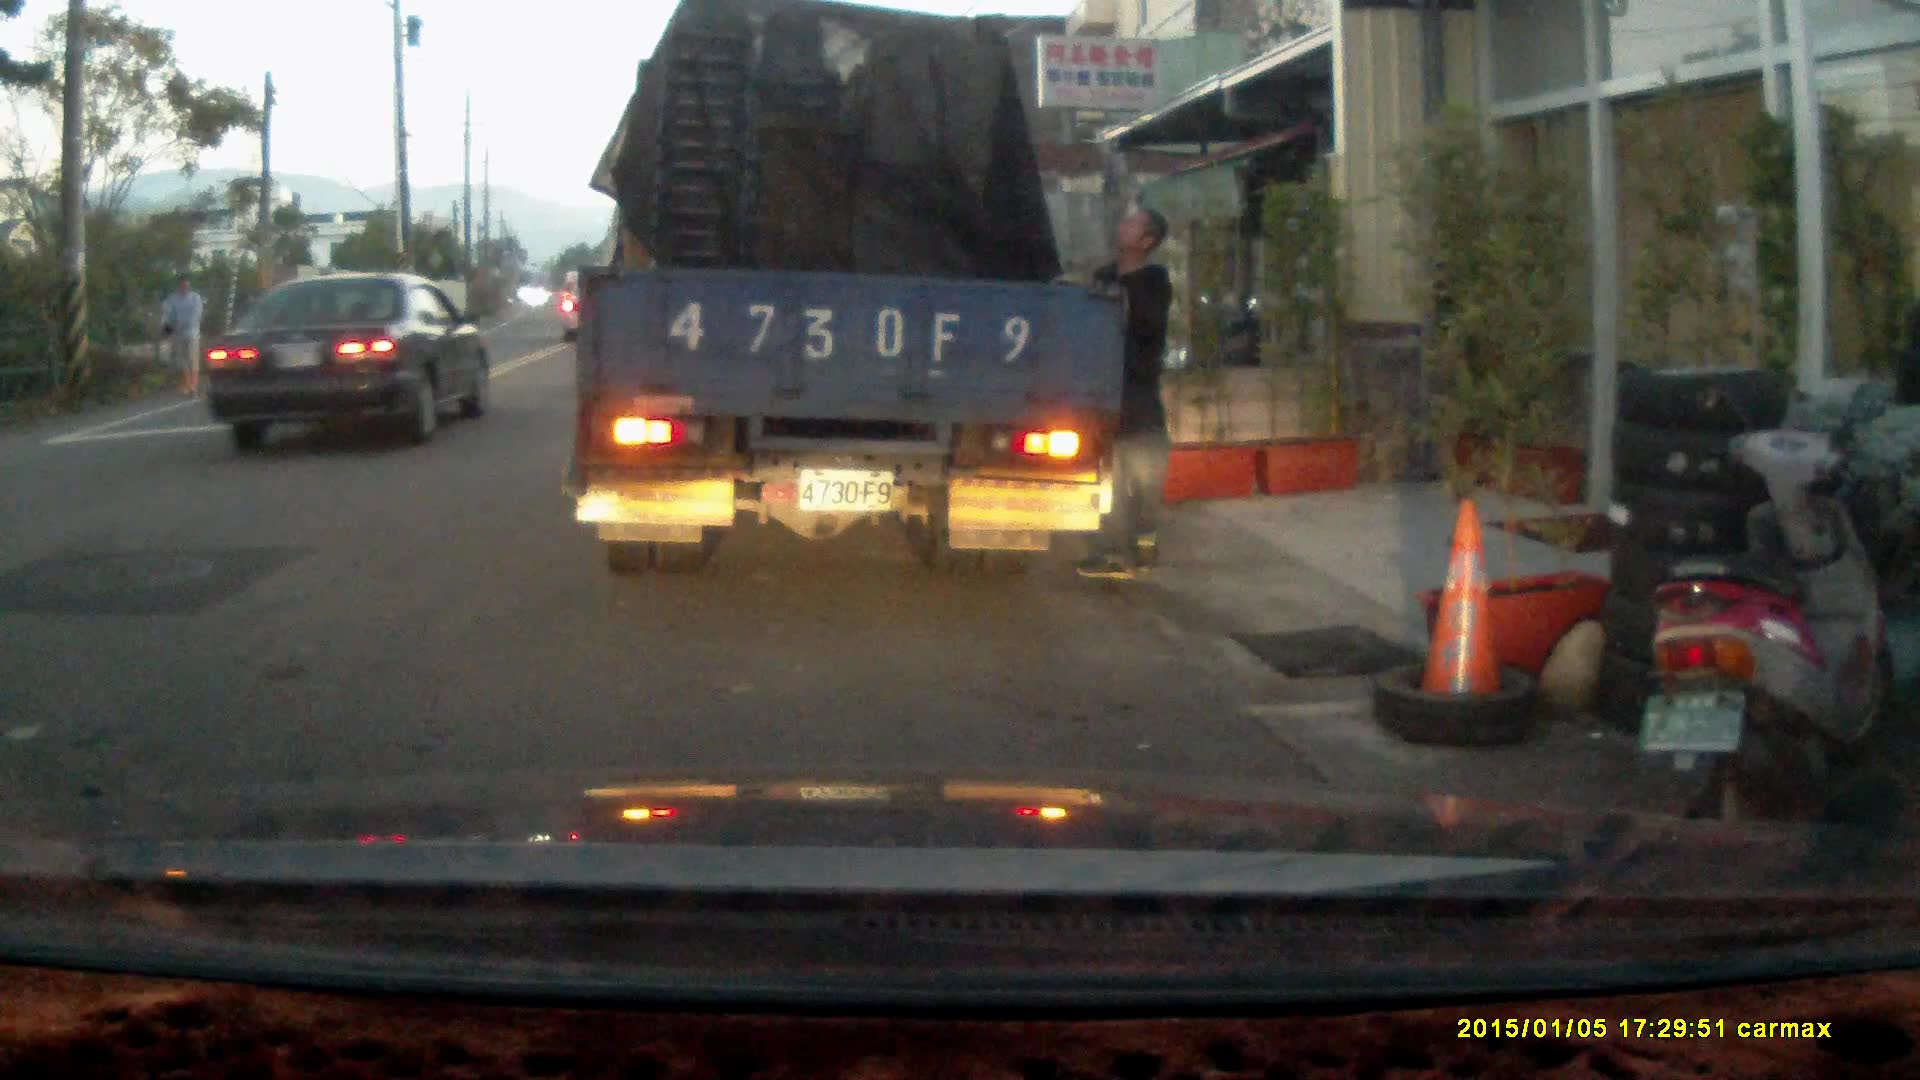pedestrian: (1060, 202, 1174, 581), (159, 271, 205, 399)
vehicle: (575, 23, 1116, 572), (196, 270, 491, 455)
